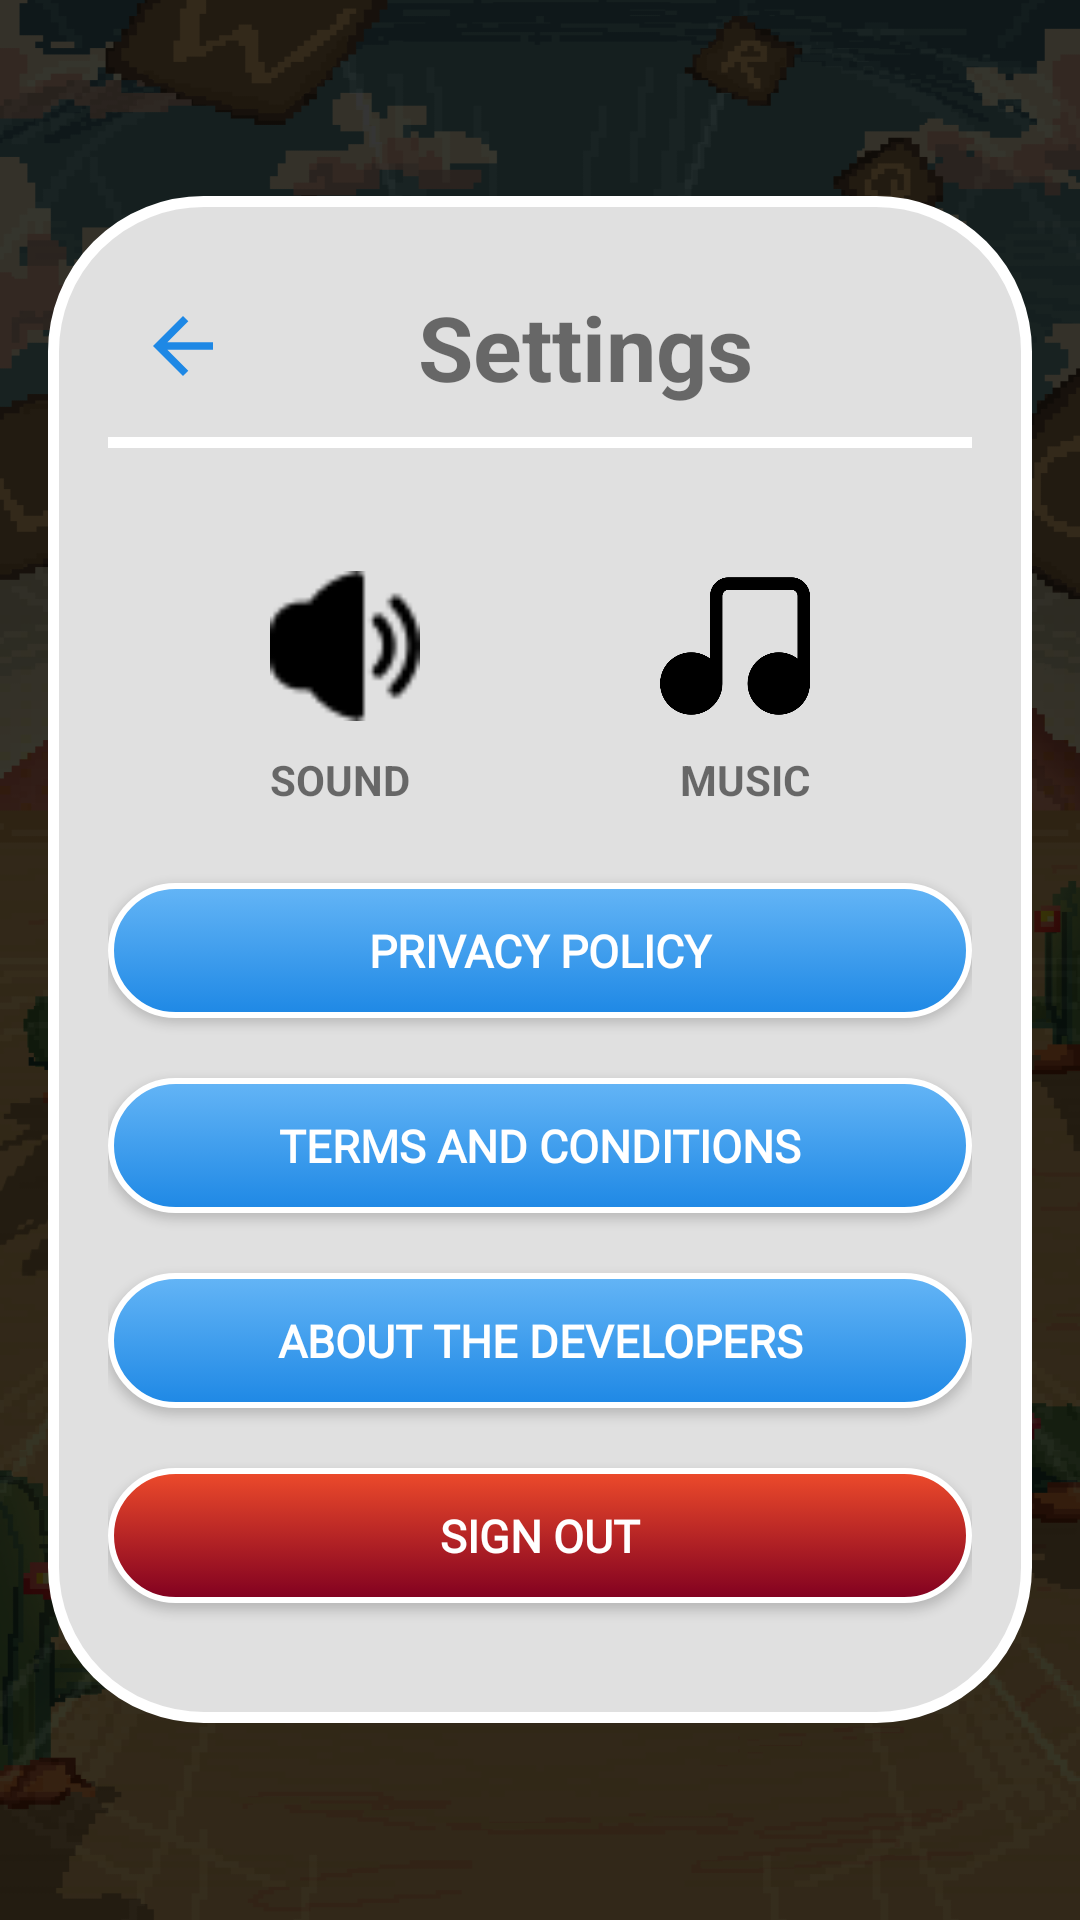

Where icons sit on this 1080w x 1920h app screen, as (x1, y1, x2, y2):
volume: (270, 571, 420, 721)
